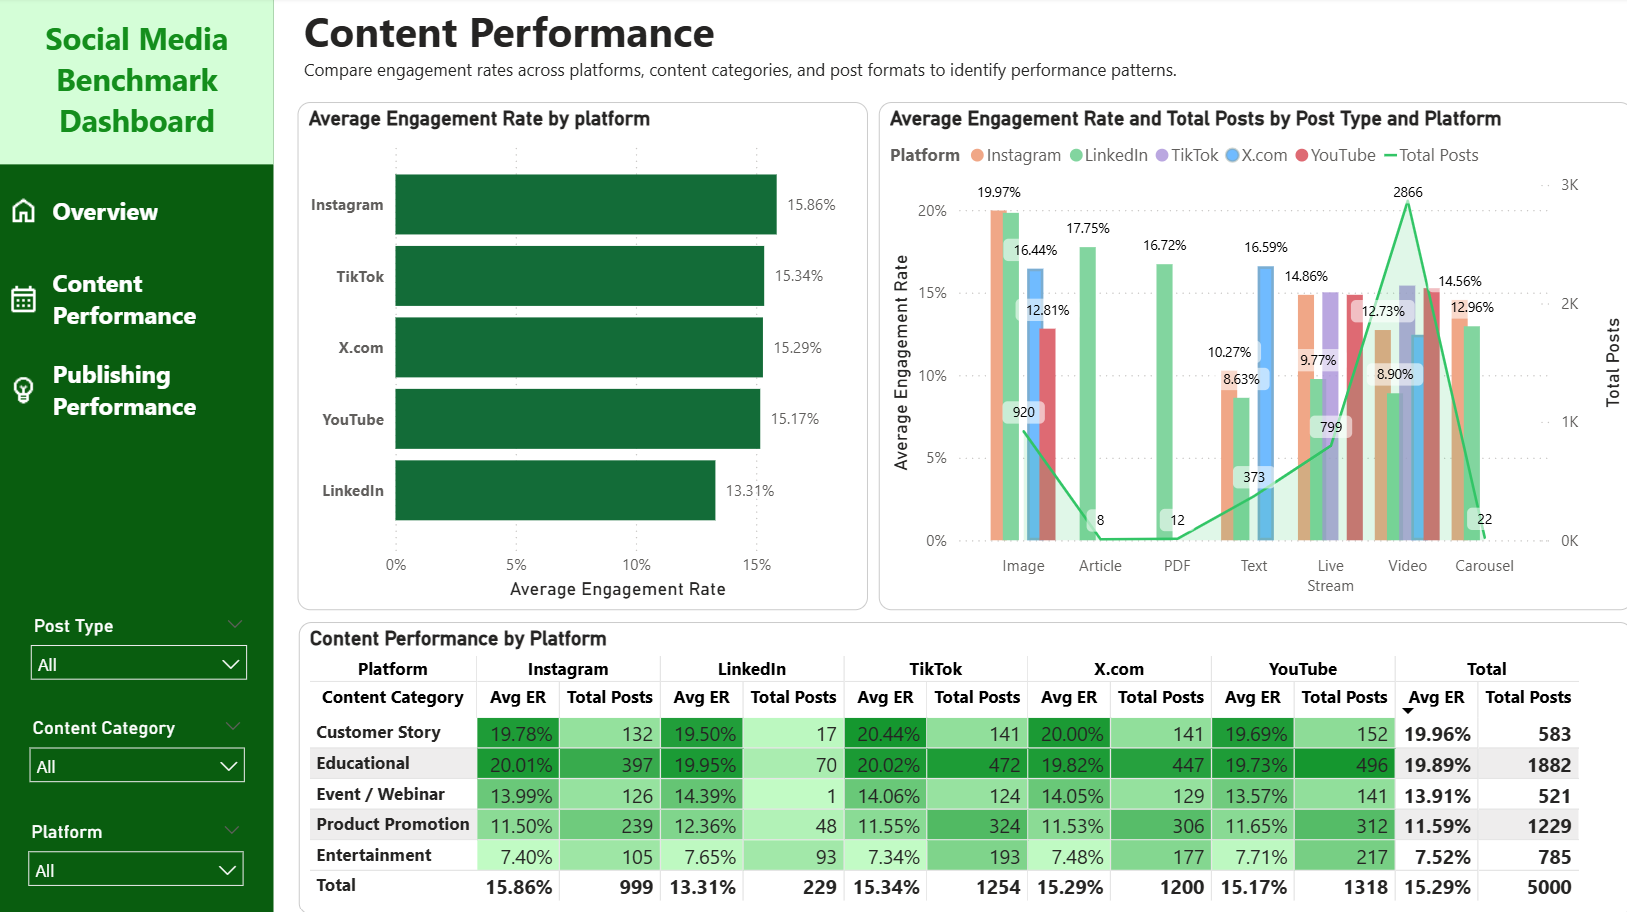

The dashboard page shown, as its layout file describes it:
{"tool":"powerbi","page":{"name":"Content Performance","canvas":[1280,720],"ordinal":1},"visuals":[{"type":"pivotTable","title":"Content Performance by Platform","fields":{"Columns":["Sheet1.platform"],"Rows":["Sheet1.content_category"],"Values":["Measure Table.AVG engagement rate","Measure Table.Total Posts"]},"box":[233.7,490.2,1046.3,230.1],"z":0},{"type":"textbox","box":[233.7,0,744.1,70.7],"z":1000},{"type":"shape","box":[0,0,214.5,720.3],"z":2000},{"type":"textbox","box":[0,0,214.5,131.4],"z":3000},{"type":"actionButton","box":[37.2,131.8,177.4,69.5],"z":4000},{"type":"actionButton","box":[37.2,201.3,177.4,70.7],"z":5000},{"type":"image","box":[0,154.6,37.2,25.2],"z":6000},{"type":"actionButton","box":[37.2,272.1,177.4,70.7],"z":7000},{"type":"image","box":[0,224.1,37.2,25.2],"z":8000},{"type":"image","box":[0,296,37.2,25.2],"z":9000},{"type":"slicer","fields":{"Values":["Sheet1.platform"]},"box":[11.5,640.6,189,79.4],"z":10000},{"type":"slicer","fields":{"Values":["Sheet1.content_category"]},"box":[13,559.8,189,80.8],"z":11000},{"type":"slicer","fields":{"Values":["SocialMedia.post_type"]},"box":[13.3,478.7,189.6,81],"z":12000},{"type":"lineClusteredColumnComboChart","title":"Average Engagement Rate and Total Posts by Post Type and Platform","fields":{"Category":["SocialMedia.post_type"],"Series":["SocialMedia.platform"],"Y":["Measure Table.Average Engagement Rate"],"Y2":["Measure Table.Total Posts"]},"box":[688.7,82,591.9,398.5],"z":13000},{"type":"clusteredBarChart","title":"Average Engagement Rate by Platform","fields":{"Category":["SocialMedia.platform"],"Y":["Measure Table.Average Engagement Rate"]},"box":[233.4,82,446.8,398.5],"z":14000}]}

Visuals, with their boxes on the page's 1280x720 design canvas (x1, y1, x2, y2). These are canvas units, not pixel positions in the 1627x912 screenshot, which may show the page scaled, cropped or inside an application window:
"Content Performance by Platform" pivotTable: <region>234, 490, 1280, 720</region>
textbox: <region>234, 0, 978, 71</region>
shape: <region>0, 0, 214, 720</region>
textbox: <region>0, 0, 214, 131</region>
actionButton: <region>37, 132, 215, 201</region>
actionButton: <region>37, 201, 215, 272</region>
image: <region>0, 155, 37, 180</region>
actionButton: <region>37, 272, 215, 343</region>
image: <region>0, 224, 37, 249</region>
image: <region>0, 296, 37, 321</region>
slicer - Sheet1.platform: <region>12, 641, 200, 720</region>
slicer - Sheet1.content_category: <region>13, 560, 202, 641</region>
slicer - SocialMedia.post_type: <region>13, 479, 203, 560</region>
"Average Engagement Rate and Total Posts by Post Type and Platform" lineClusteredColumnComboChart: <region>689, 82, 1281, 480</region>
"Average Engagement Rate by Platform" clusteredBarChart: <region>233, 82, 680, 480</region>
